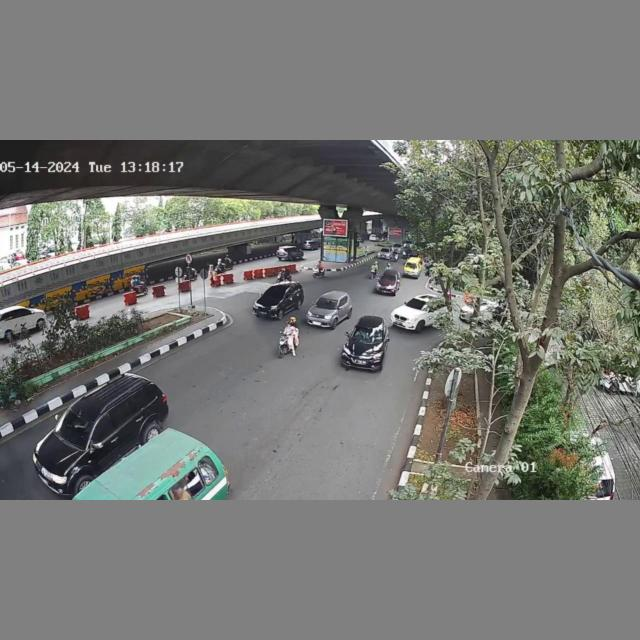windshield: (350, 326, 383, 343), (259, 287, 290, 302), (315, 297, 337, 309)
